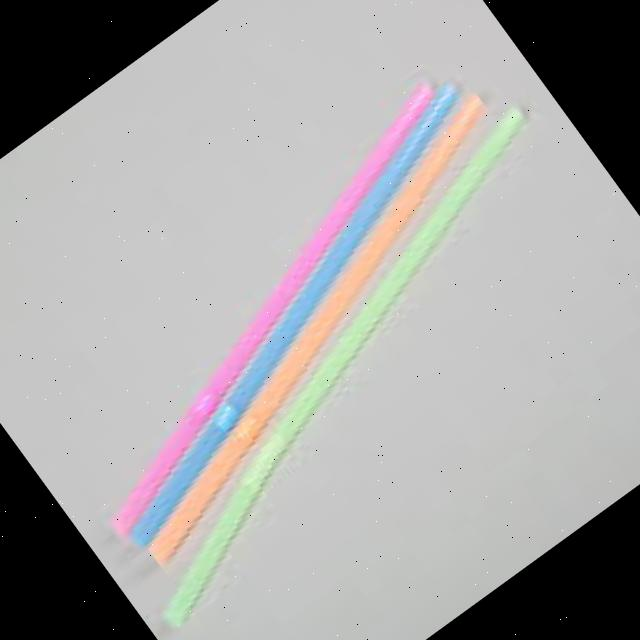plastic: (5, 59, 640, 640)
